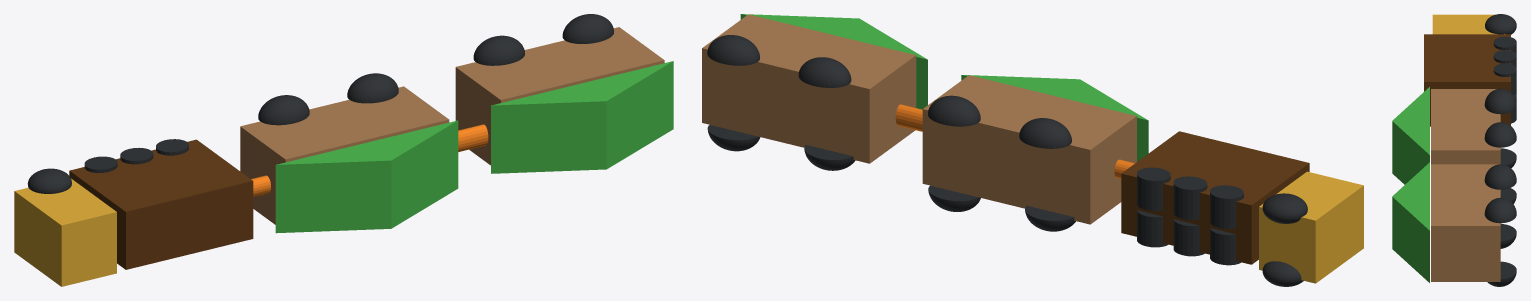
File: tinker.obj
3 renders of one model, left to right at view 1: azimuth 30°, elevation 25°; view 2: azimuth 150°, elevation 25°; view 3: azimuth 270°, elevation 25°, orthographic. The views are drawn at different scales.
Visible parts, largest first — view 1: group_0_4634441, group_0_11107152, group_0_6306067, group_0_14789940, group_0_2829873, group_0_16089887; view 2: group_0_11107152, group_0_2829873, group_0_6306067, group_0_14789940, group_0_4634441, group_0_16089887; view 3: group_0_11107152, group_0_4634441, group_0_2829873, group_0_6306067, group_0_14789940.
Part boxes in pixels (<box>): group_0_4634441: <box>275,61,673,233</box>; group_0_11107152: <box>240,27,664,224</box>; group_0_6306067: <box>69,139,253,269</box>; group_0_14789940: <box>14,178,116,286</box>; group_0_2829873: <box>27,14,613,193</box>; group_0_16089887: <box>251,124,488,196</box>; group_0_11107152: <box>702,14,1136,224</box>; group_0_2829873: <box>707,35,1307,286</box>; group_0_6306067: <box>1121,131,1309,264</box>; group_0_14789940: <box>1259,171,1363,283</box>; group_0_4634441: <box>740,14,1148,161</box>; group_0_16089887: <box>895,104,1134,178</box>; group_0_11107152: <box>1431,89,1500,281</box>; group_0_4634441: <box>1392,87,1429,282</box>; group_0_2829873: <box>1484,14,1516,286</box>; group_0_6306067: <box>1424,34,1510,126</box>; group_0_14789940: <box>1432,14,1504,34</box>.
Size of the model in its own units: 187 by 34 by 43.
